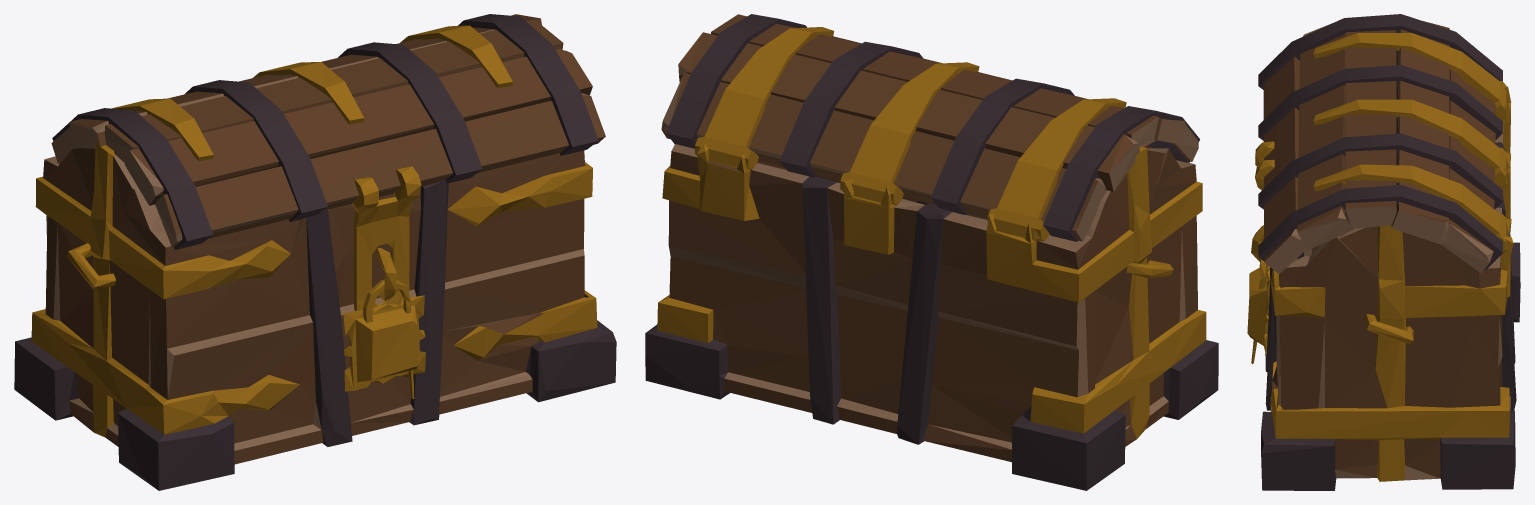
File: MDungeon_Chest_01_Lrg.FBX
The picture shows the model from 3 angles, left to right: view 1: azimuth 30°, elevation 25°; view 2: azimuth 150°, elevation 25°; view 3: azimuth 270°, elevation 25°; orthographic projection. The views are drawn at different scales.
Parts seen in each view (by area): view 1: MDungeon_Chest_01_Lrg_LOD0, MDungeon_Chest_01_Lid_Lrg_LOD0 (×2), MDungeon_Chest_01_Lock_Lrg_Mesh, MDungeon_Chest_01_Bolt_Lrg_LOD0; view 2: MDungeon_Chest_01_Lrg_LOD0, MDungeon_Chest_01_Lid_Lrg_LOD0; view 3: MDungeon_Chest_01_Lrg_LOD0, MDungeon_Chest_01_Lid_Lrg_LOD0 (×2), MDungeon_Chest_01_Lock_Lrg_Mesh.
Boxes of the visible parts, x1,y1,x2,y2 form: MDungeon_Chest_01_Lrg_LOD0: [14, 143, 616, 490]; MDungeon_Chest_01_Lid_Lrg_LOD0 (×2): [51, 14, 605, 310]; MDungeon_Chest_01_Lock_Lrg_Mesh: [343, 295, 425, 391]; MDungeon_Chest_01_Bolt_Lrg_LOD0: [363, 279, 414, 398]; MDungeon_Chest_01_Lrg_LOD0: [645, 144, 1218, 490]; MDungeon_Chest_01_Lid_Lrg_LOD0: [661, 14, 1199, 241]; MDungeon_Chest_01_Lrg_LOD0: [1251, 86, 1520, 490]; MDungeon_Chest_01_Lid_Lrg_LOD0 (×2): [1255, 14, 1508, 274]; MDungeon_Chest_01_Lock_Lrg_Mesh: [1247, 266, 1270, 356].
Size of what is drawn, in the model's own units: 1.95 by 1.26 by 1.08.
